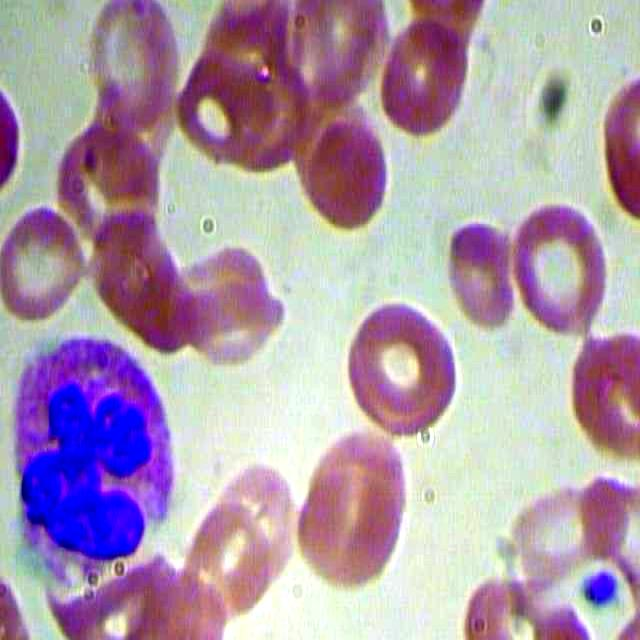Platelets: (579, 564, 623, 608)
RBC: (287, 454, 407, 594), (345, 292, 457, 437), (509, 196, 621, 339), (52, 118, 163, 242), (83, 1, 182, 132), (174, 282, 288, 378), (444, 195, 514, 344), (303, 116, 389, 237), (380, 16, 466, 137), (1, 205, 86, 327), (563, 334, 639, 466), (311, 431, 409, 525)
WBC: (2, 329, 187, 587)
